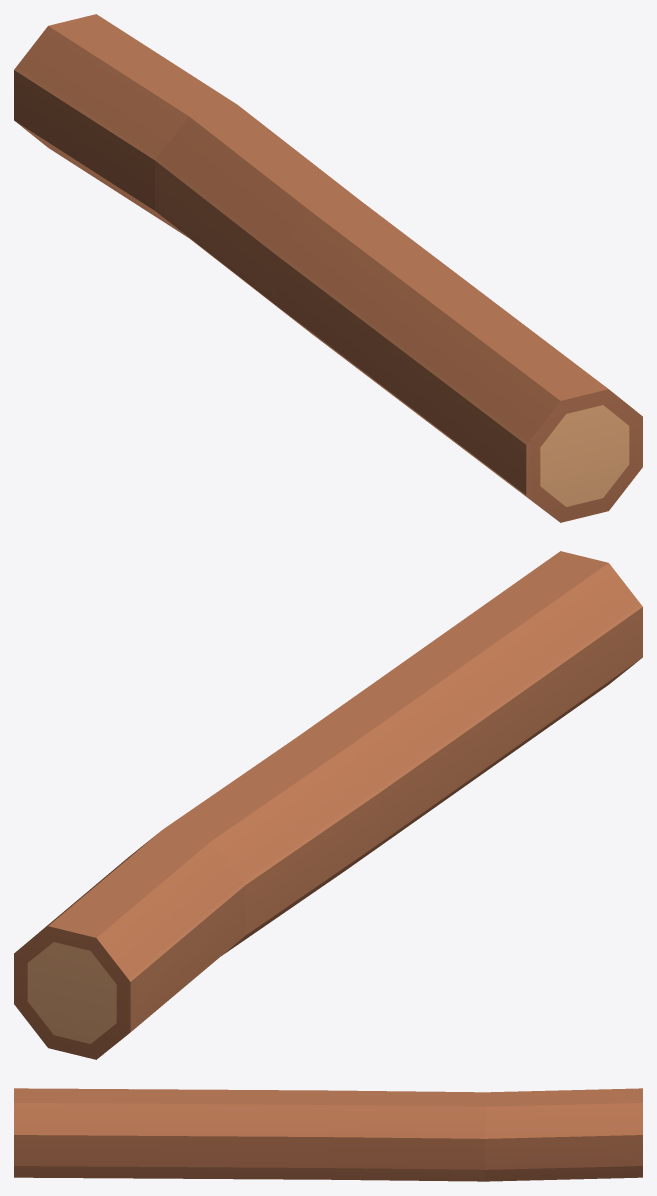
Rendered from tree trunk 3.fbx.
3 renders of one model, top to bottom at view 1: azimuth 30°, elevation 25°; view 2: azimuth 150°, elevation 25°; view 3: azimuth 270°, elevation 25°, orthographic. The views are drawn at different scales.
Visible parts, largest first — view 1: tree trunk 3; view 2: tree trunk 3; view 3: tree trunk 3.
Boxes of the visible parts, <box> form: tree trunk 3: <box>14,14,642,522</box>; tree trunk 3: <box>14,551,642,1059</box>; tree trunk 3: <box>14,1088,642,1181</box>.
Size of the model in its own units: 37.16 by 33.43 by 255.
